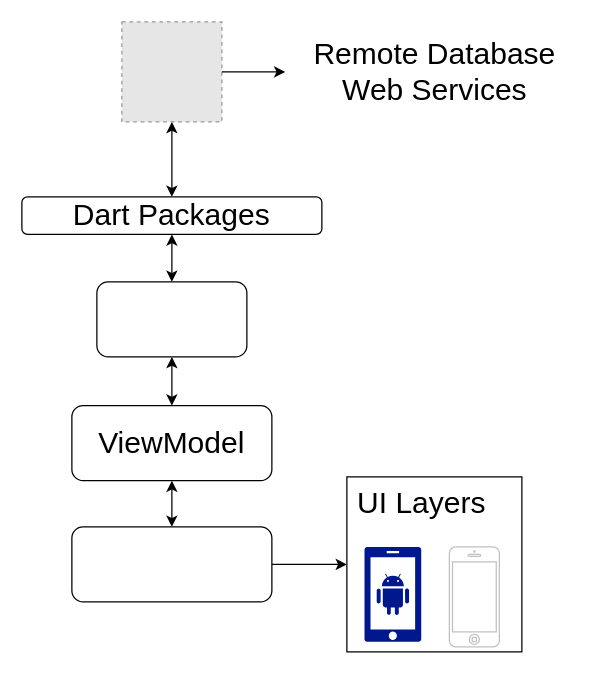
The diagram is 606 pixels wide and 674 high, and some of its shapes have lost their labels. Grey dashed boxes stand in for pictures. The box of each missing label's shape, as (x1, y1, x2, y2) in pixels:
Model: (96, 281, 247, 357)
Widgets (View): (71, 526, 272, 602)
